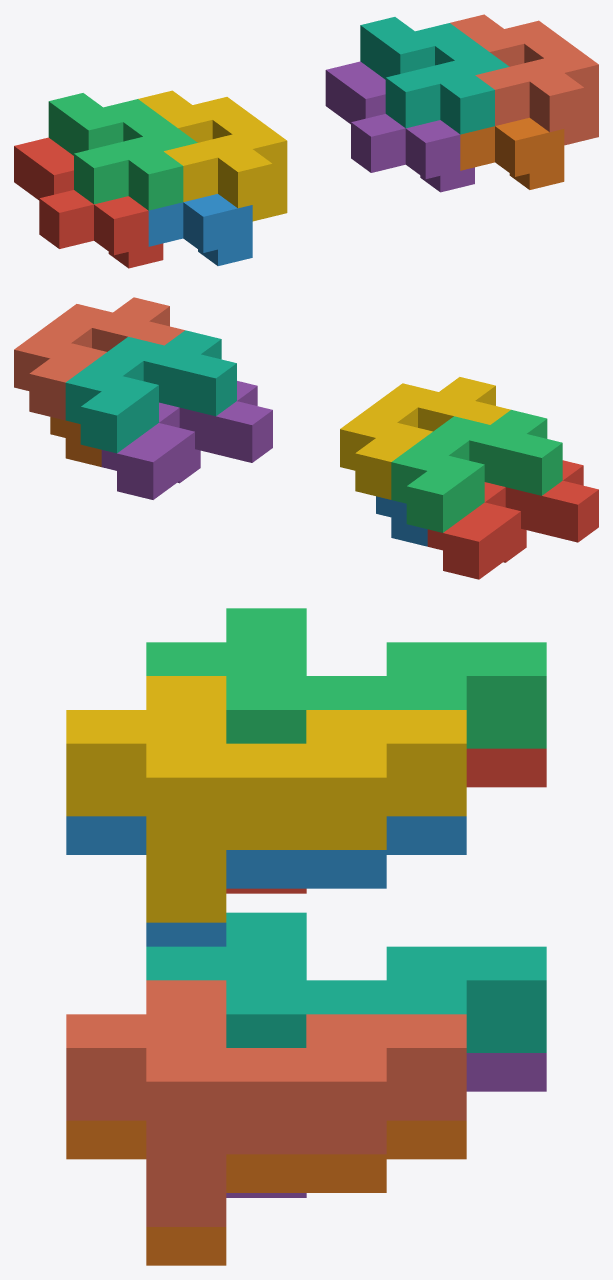
Rendered from tiling.obj.
3 views of the same model, one above another, from view 1: azimuth 30°, elevation 25°; view 2: azimuth 150°, elevation 25°; view 3: azimuth 270°, elevation 25° (orthographic). The views are drawn at different scales.
Parts seen in each view (by area): view 1: copy_1_domain_3, copy_1_domain_7, copy_1_domain_4, copy_1_domain_8, copy_1_domain_5, copy_1_domain_1, copy_1_domain_6, copy_1_domain_2; view 2: copy_1_domain_3, copy_1_domain_7, copy_1_domain_1, copy_1_domain_5, copy_1_domain_4, copy_1_domain_8, copy_1_domain_2, copy_1_domain_6; view 3: copy_1_domain_8, copy_1_domain_4, copy_1_domain_7, copy_1_domain_3, copy_1_domain_6, copy_1_domain_2, copy_1_domain_1, copy_1_domain_5.
Boxes of the visible parts, x1,y1,x2,y2 form: copy_1_domain_3: (48,93,197,210); copy_1_domain_7: (360,17,509,134); copy_1_domain_4: (138,90,287,221); copy_1_domain_8: (450,14,598,145); copy_1_domain_5: (325,61,474,192); copy_1_domain_1: (14,137,163,268); copy_1_domain_6: (460,117,564,189); copy_1_domain_2: (148,194,252,265); copy_1_domain_3: (391,409,562,532); copy_1_domain_7: (65,330,236,453); copy_1_domain_1: (427,460,598,579); copy_1_domain_5: (101,381,272,499); copy_1_domain_4: (340,377,510,499); copy_1_domain_8: (14,297,184,420); copy_1_domain_2: (376,496,427,546); copy_1_domain_6: (50,417,101,466); copy_1_domain_8: (66,980,466,1226); copy_1_domain_4: (66,676,466,922); copy_1_domain_7: (146,912,546,1052); copy_1_domain_3: (146,608,546,748); copy_1_domain_6: (66,1120,466,1265); copy_1_domain_2: (66,816,466,946); copy_1_domain_1: (226,748,546,893); copy_1_domain_5: (226,1053,546,1197).
Size of the model in its own units: 15 by 3 by 6.
